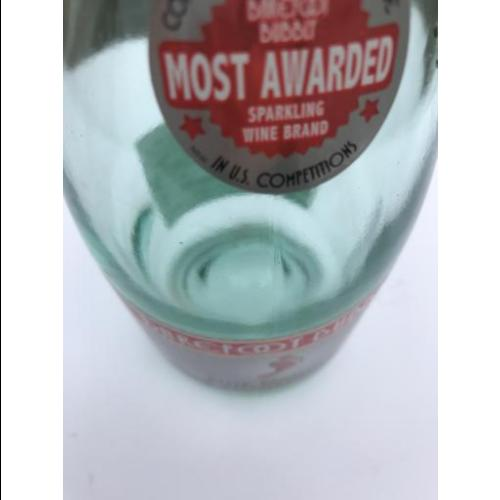glass: (64, 0, 438, 396)
